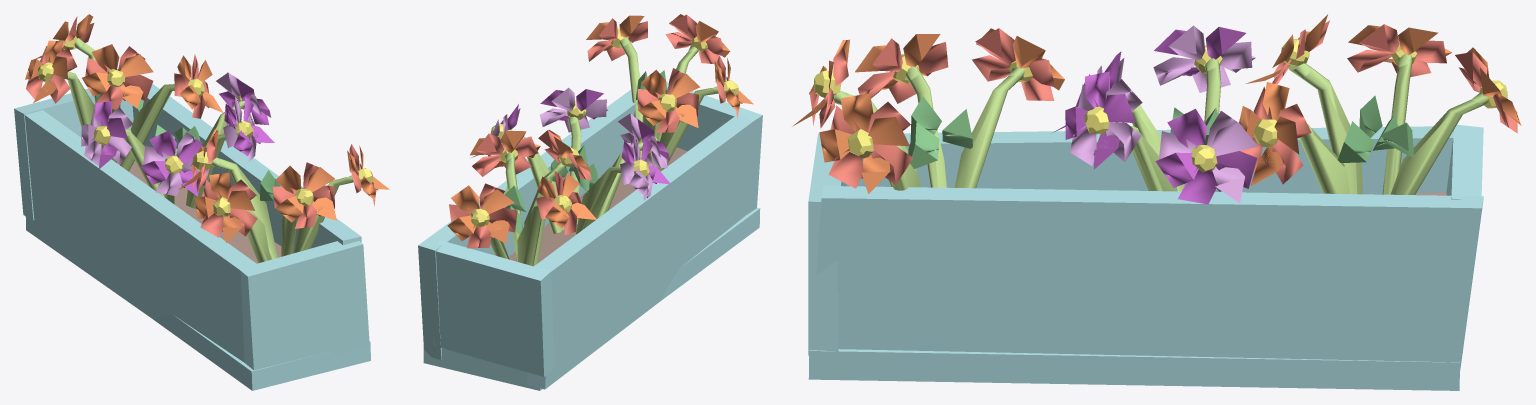
File: flower_box_1.gltf
The picture shows the model from 3 angles, left to right: view 1: azimuth 30°, elevation 25°; view 2: azimuth 150°, elevation 25°; view 3: azimuth 270°, elevation 25°; orthographic projection. The views are drawn at different scales.
Parts seen in each view (by area): view 1: mesh_1319066691_material_12___26622_0; view 2: mesh_1319066691_material_12___26622_0; view 3: mesh_1319066691_material_12___26622_0.
Boxes of the visible parts, x1,y1,x2,y2 form: mesh_1319066691_material_12___26622_0: (14, 14, 389, 390); mesh_1319066691_material_12___26622_0: (418, 14, 762, 390); mesh_1319066691_material_12___26622_0: (792, 14, 1521, 390).
Size of the model in its own units: 41.77 by 45.72 by 96.92.
